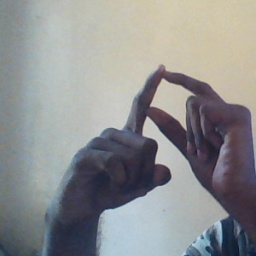D: (101, 57, 236, 188)
